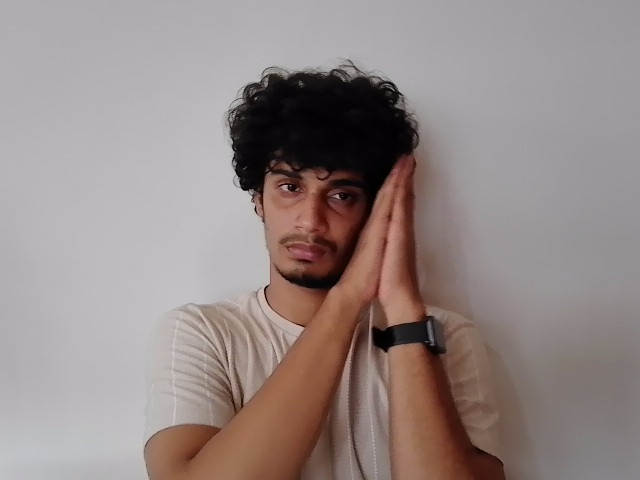sleep: (325, 153, 418, 294)
